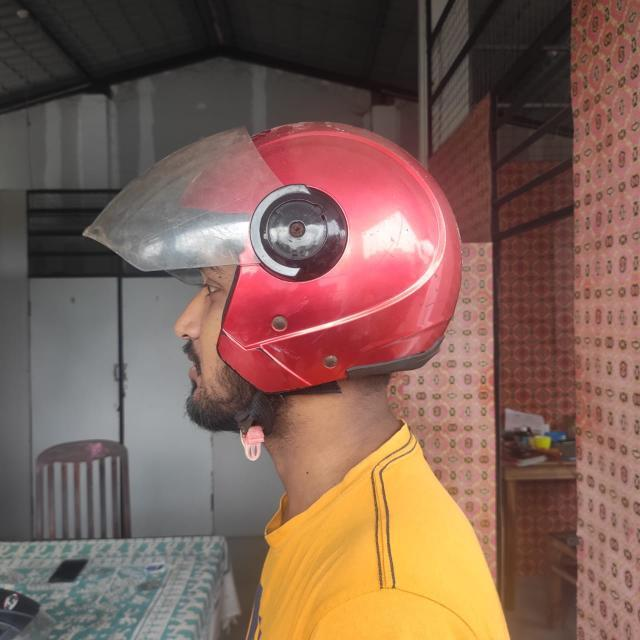helmet: (65, 113, 529, 495)
